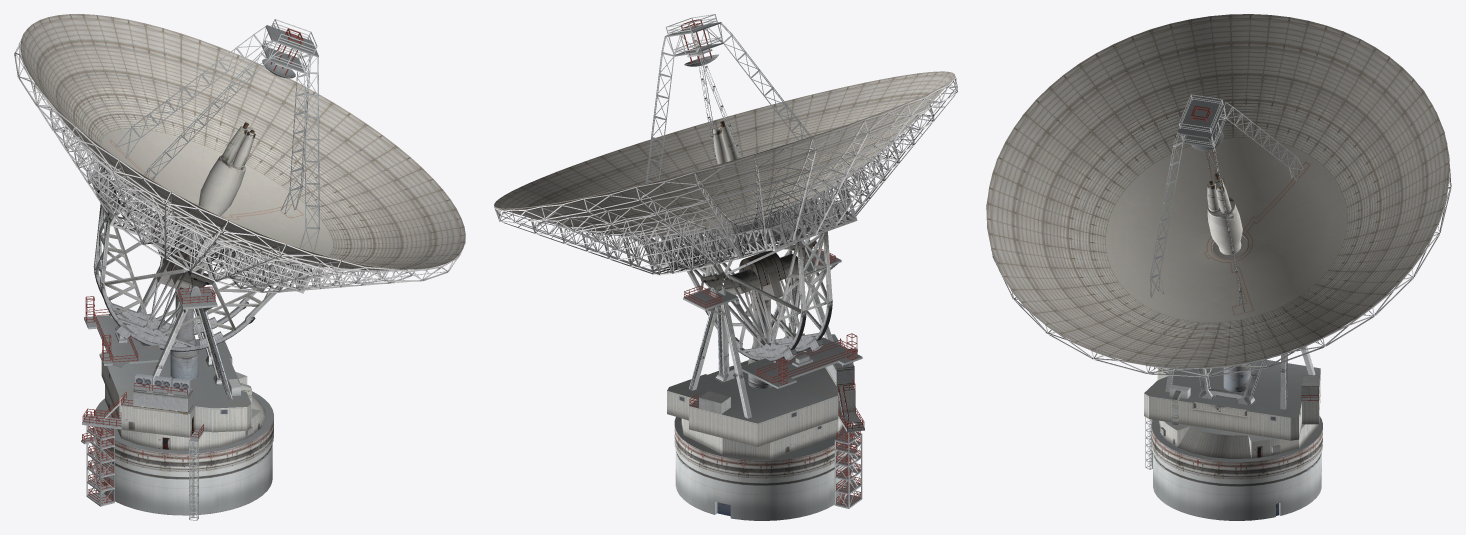
3 views of the same model, side by side, from view 1: azimuth 30°, elevation 25°; view 2: azimuth 150°, elevation 25°; view 3: azimuth 270°, elevation 25° (orthographic). The views are drawn at different scales.
Parts seen in each view (by area): view 1: e18c3e01-5c65-4350-b631-69de13072503, 172dc267-3f7c-4df9-8ca5-8d10c708878d, aaf330e8-fac2-4554-9045-16e2efc5eda4, 8689172f-17e6-4dd0-90a5-b7585757311a, ad09caa6-634c-41bc-bf54-debf13fb20ce; view 2: 172dc267-3f7c-4df9-8ca5-8d10c708878d, e18c3e01-5c65-4350-b631-69de13072503, aaf330e8-fac2-4554-9045-16e2efc5eda4, ad09caa6-634c-41bc-bf54-debf13fb20ce; view 3: e18c3e01-5c65-4350-b631-69de13072503, 8689172f-17e6-4dd0-90a5-b7585757311a, 172dc267-3f7c-4df9-8ca5-8d10c708878d, aaf330e8-fac2-4554-9045-16e2efc5eda4.
Boxes of the visible parts, box(x1,y1,x2,y2) form: e18c3e01-5c65-4350-b631-69de13072503: box(20, 14, 465, 270); 172dc267-3f7c-4df9-8ca5-8d10c708878d: box(81, 19, 319, 520); aaf330e8-fac2-4554-9045-16e2efc5eda4: box(14, 24, 465, 292); 8689172f-17e6-4dd0-90a5-b7585757311a: box(101, 128, 333, 255); ad09caa6-634c-41bc-bf54-debf13fb20ce: box(92, 164, 311, 293); 172dc267-3f7c-4df9-8ca5-8d10c708878d: box(645, 14, 864, 520); e18c3e01-5c65-4350-b631-69de13072503: box(494, 71, 954, 236); aaf330e8-fac2-4554-9045-16e2efc5eda4: box(494, 76, 957, 275); ad09caa6-634c-41bc-bf54-debf13fb20ce: box(646, 199, 857, 268); e18c3e01-5c65-4350-b631-69de13072503: box(986, 14, 1449, 367); 8689172f-17e6-4dd0-90a5-b7585757311a: box(1105, 138, 1347, 322); 172dc267-3f7c-4df9-8ca5-8d10c708878d: box(1144, 94, 1322, 520); aaf330e8-fac2-4554-9045-16e2efc5eda4: box(986, 55, 1451, 377).
Bounding box in the file's own units: 64860 × 70567 × 69543.
6 materials, 6 textured.
